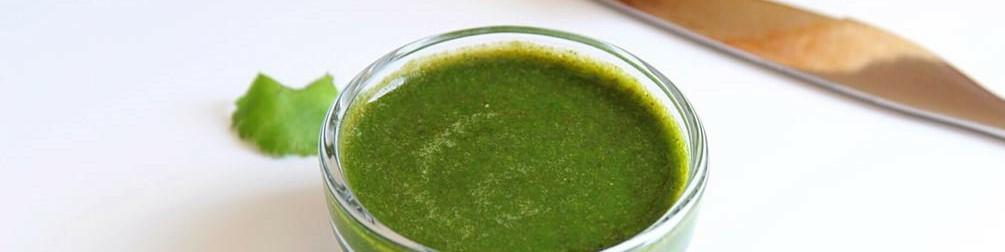GreenChutney: (344, 52, 671, 251)
